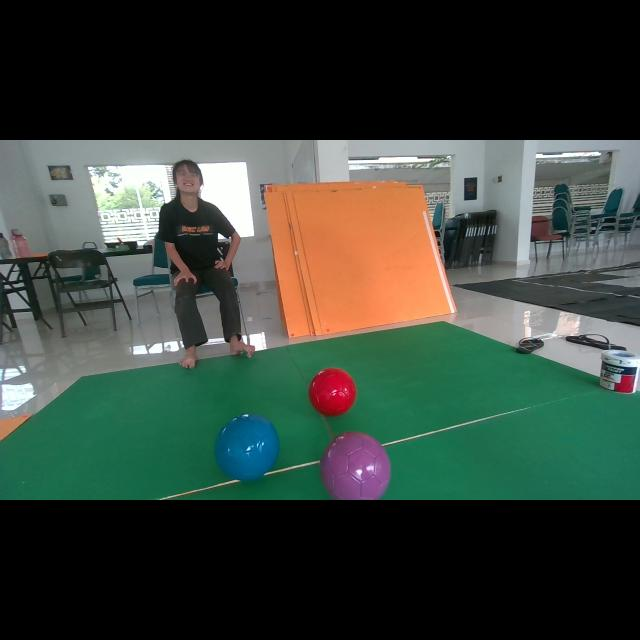B: (215, 414, 280, 481)
P: (320, 431, 391, 500)
R: (309, 368, 356, 416)
